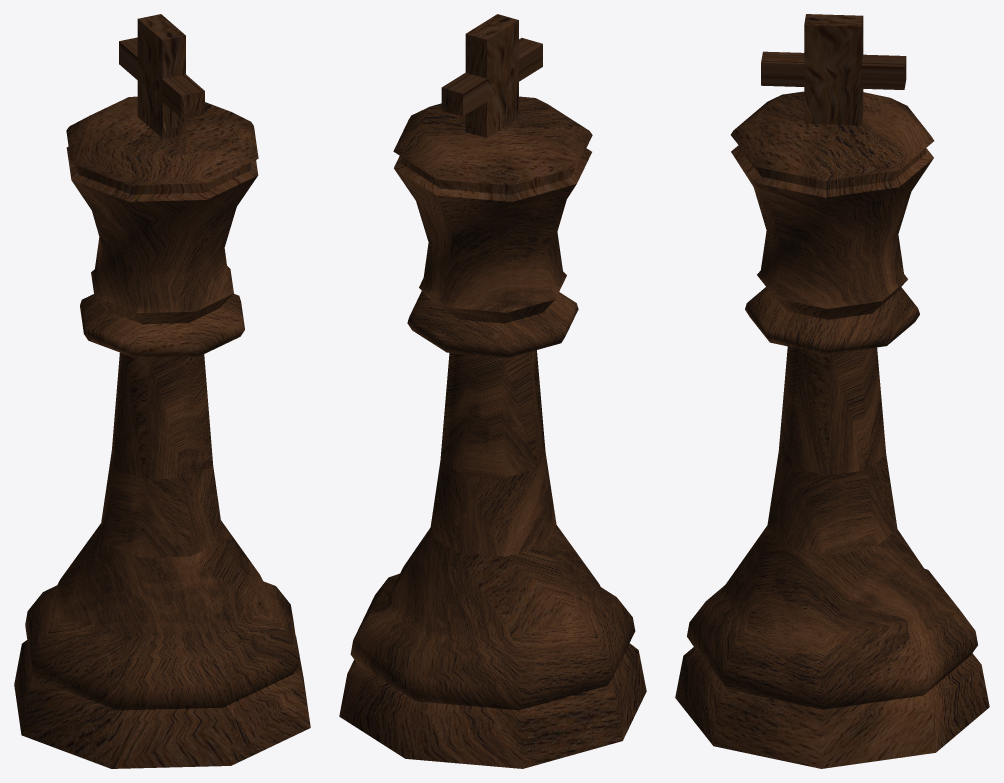
Rendered from gercek4_k_b.glb.
The picture shows the model from 3 angles, left to right: view 1: azimuth 30°, elevation 25°; view 2: azimuth 150°, elevation 25°; view 3: azimuth 270°, elevation 25°; orthographic projection.
Parts seen in each view (by area): view 1: BlackKing_11; view 2: BlackKing_11; view 3: BlackKing_11.
Part boxes in pixels (x1=…): BlackKing_11: x1=14, y1=14, x2=310, y2=768; BlackKing_11: x1=339, y1=14, x2=646, y2=768; BlackKing_11: x1=675, y1=14, x2=989, y2=768.
Bounding box in the file's own units: 0.0296 × 0.0709 × 0.0296.
Materials: 1 (1 with a texture image).
